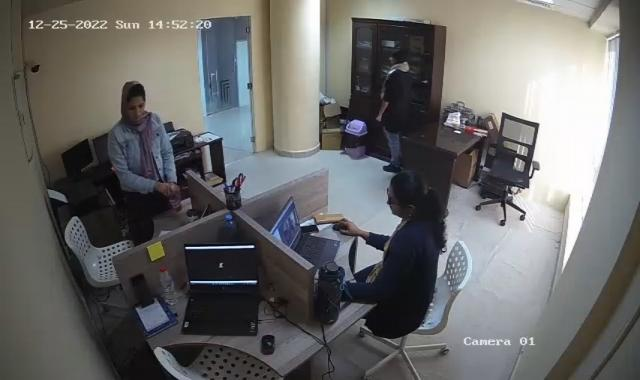no_hairnet: (384, 171, 426, 221), (121, 82, 147, 122), (388, 49, 406, 69)
